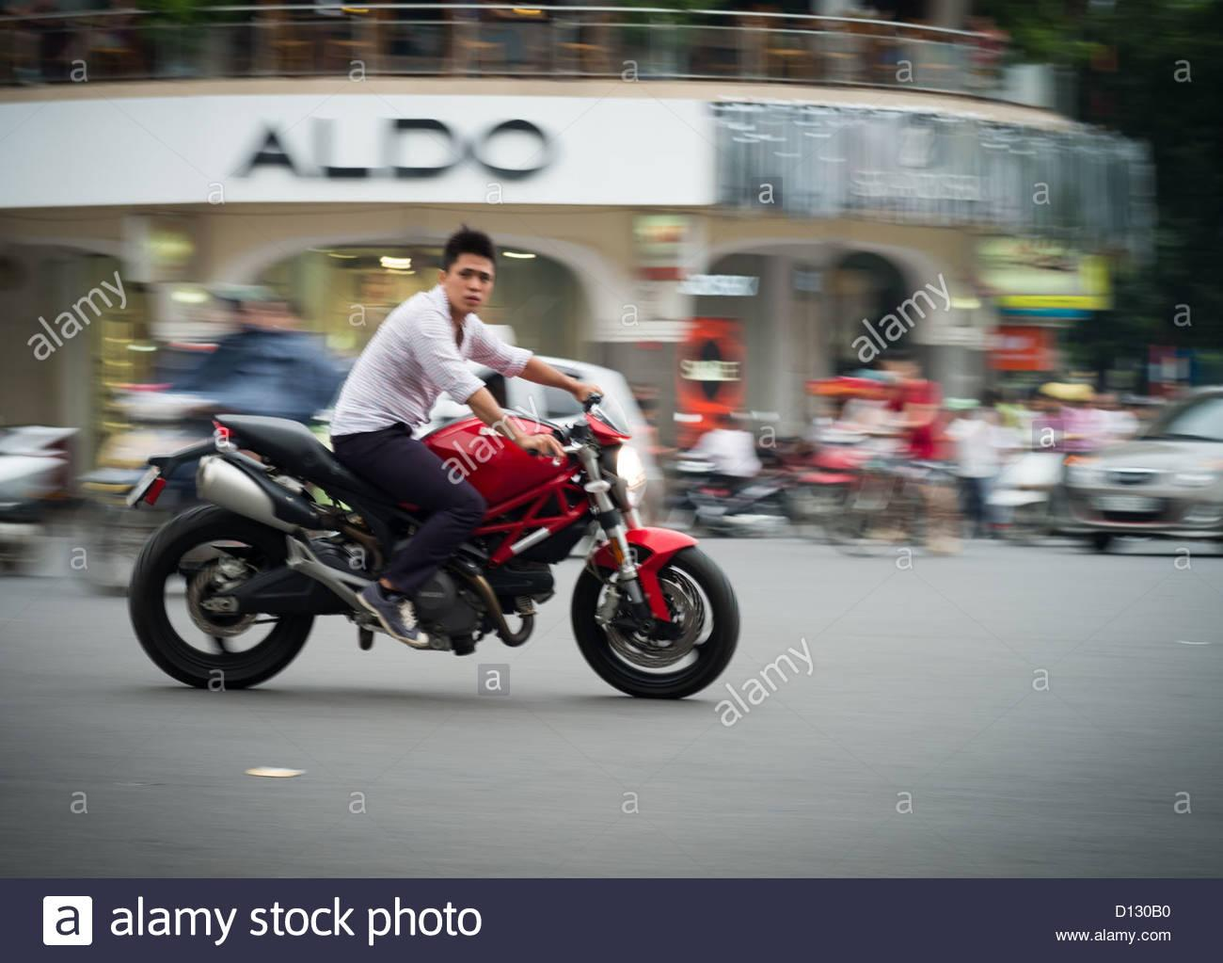nohelmet: (420, 203, 516, 327)
